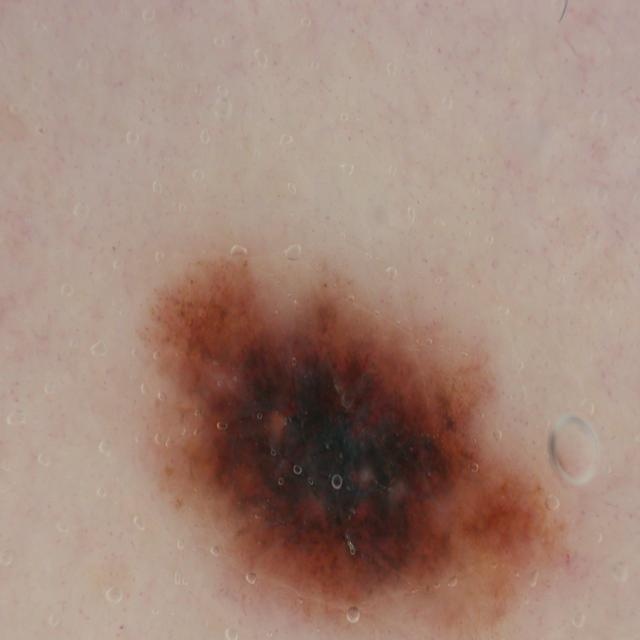Melanoma: (121, 206, 541, 640)
